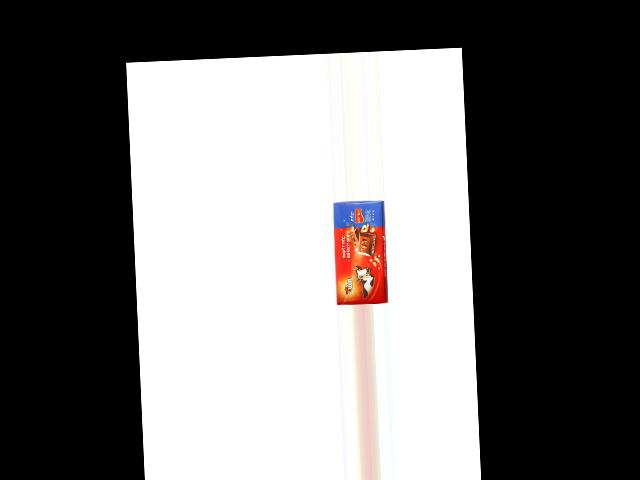chocolate: (333, 201, 393, 305)
